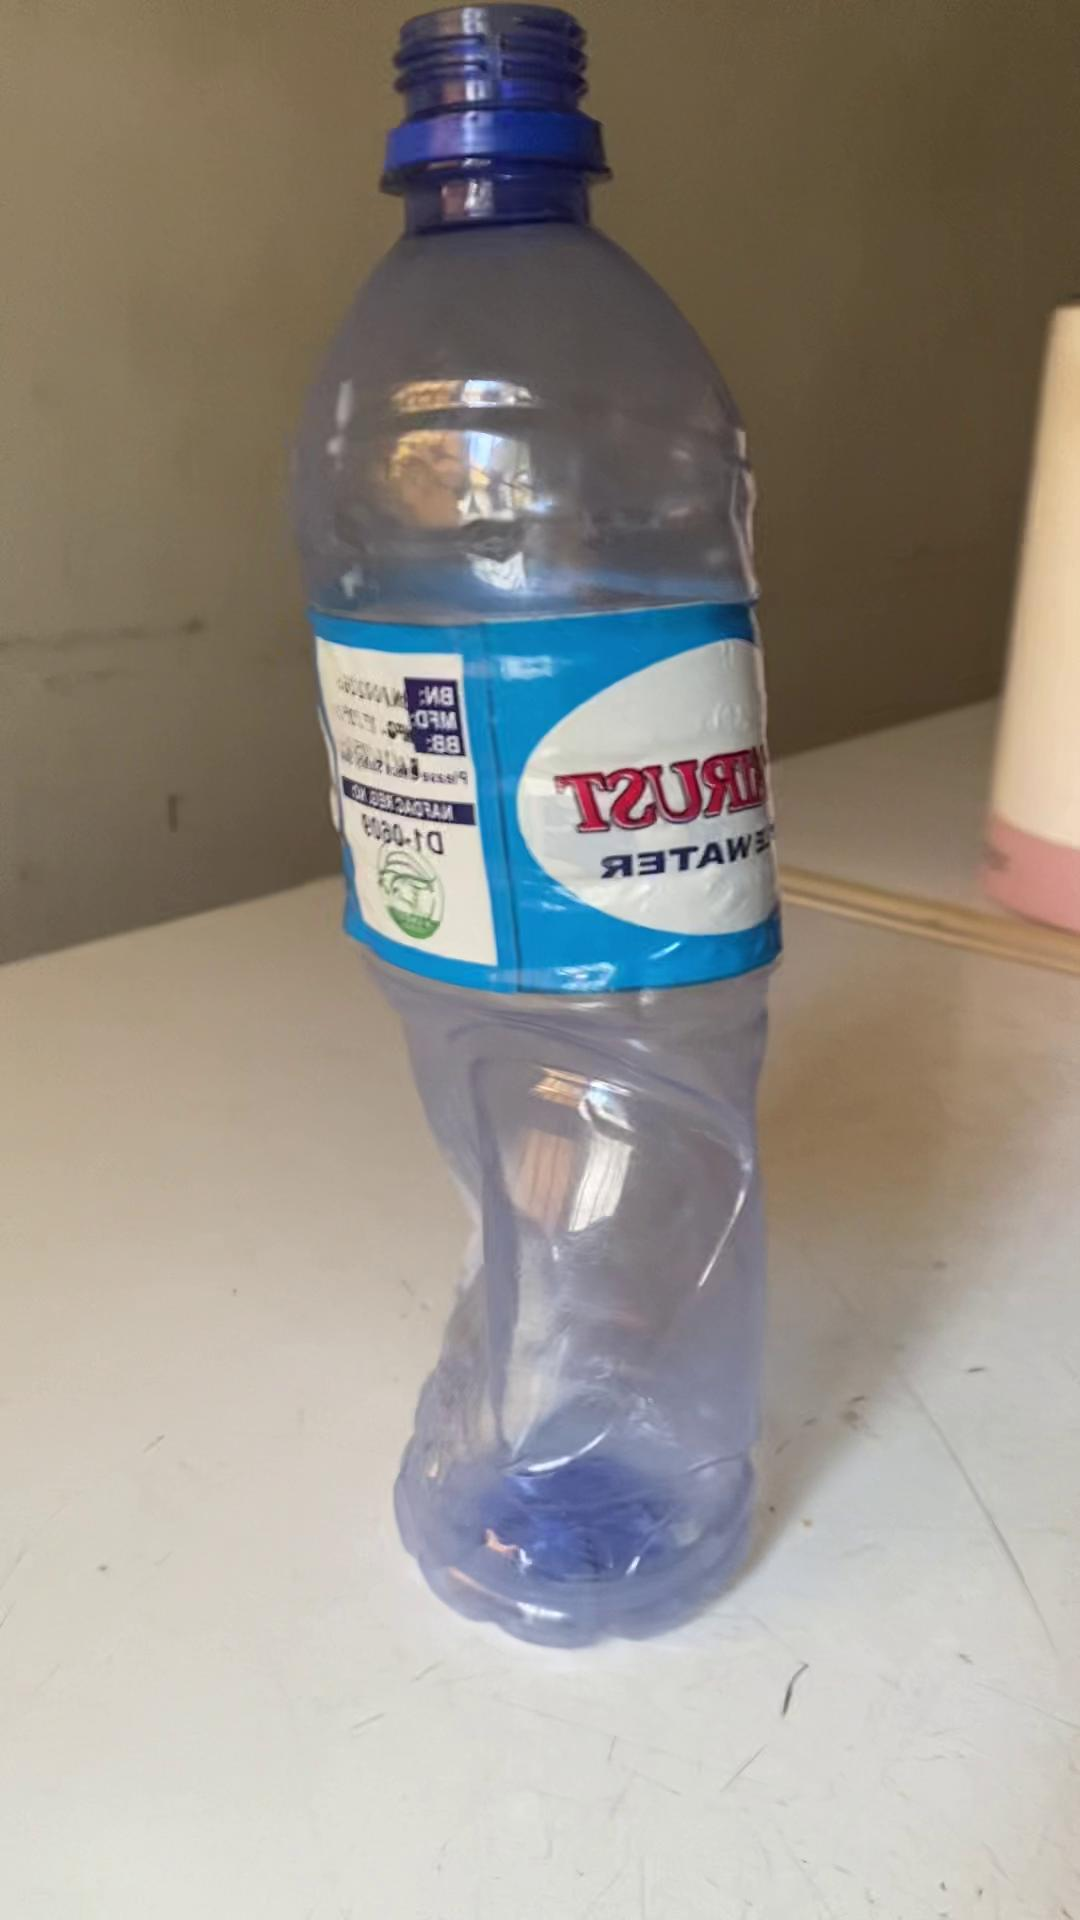crumbled: (293, 0, 794, 1654)
label: (331, 600, 762, 989)
no-cap: (381, 7, 618, 181)
